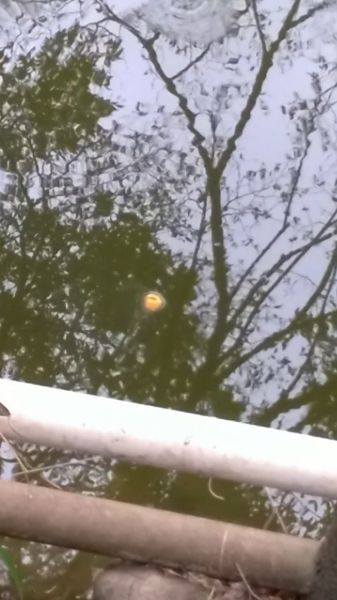eggs: (140, 289, 167, 316)
